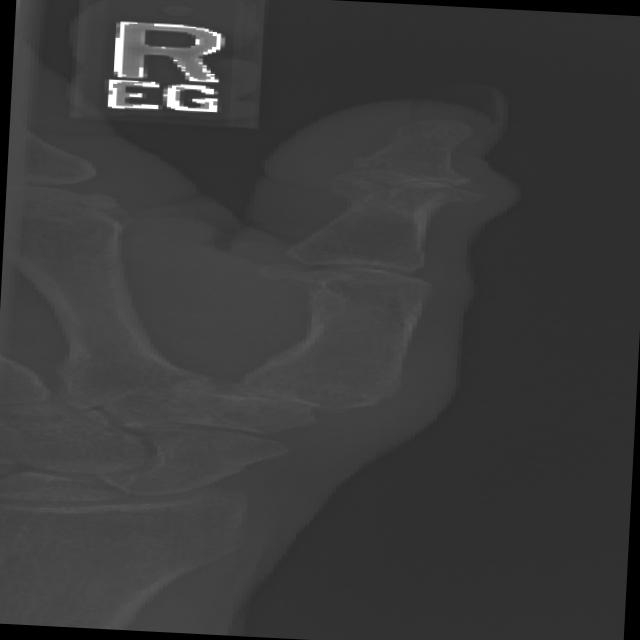fingers positive: (293, 149, 523, 238)
